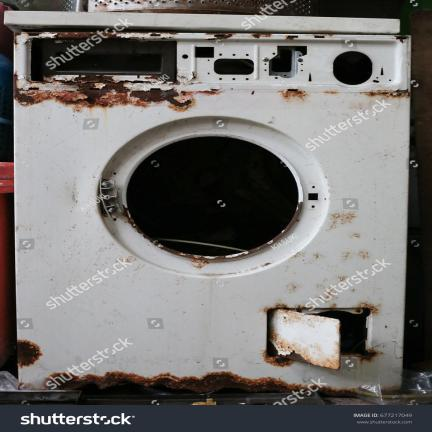karat: (11, 75, 202, 110), (48, 371, 287, 391)
